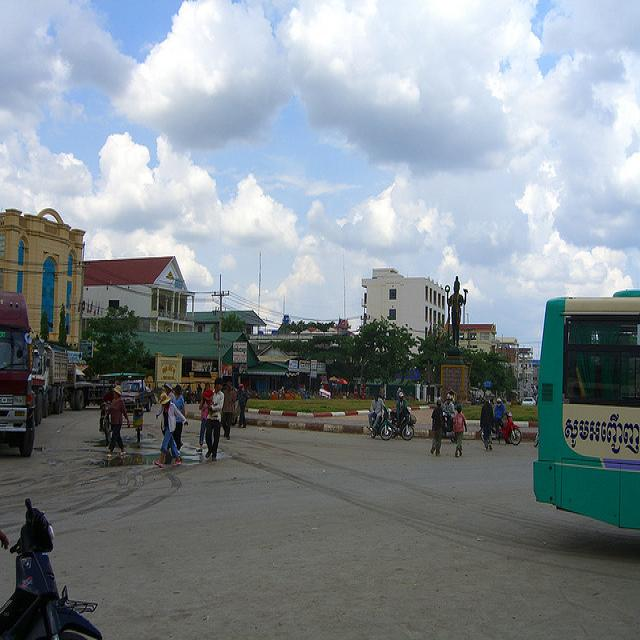motor: (2, 498, 106, 632), (366, 405, 394, 441), (499, 410, 523, 445), (393, 408, 412, 438), (533, 430, 539, 447)
